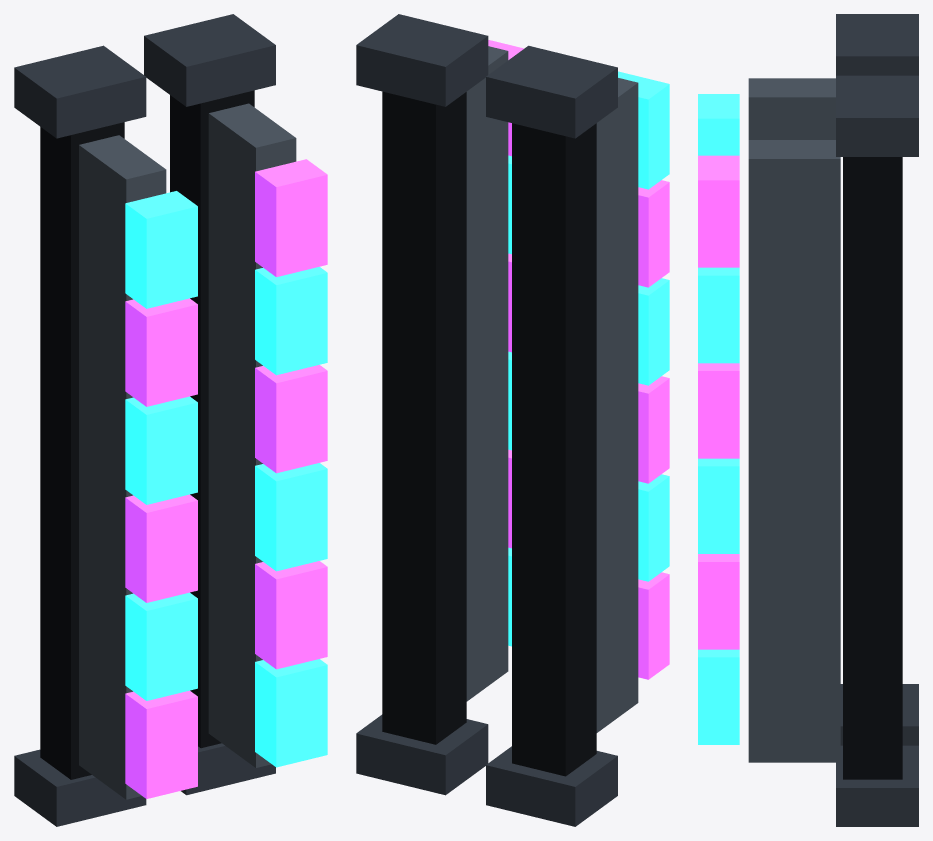
The model's file is pc-ram.glb.
3 renders of one model, left to right at view 1: azimuth 30°, elevation 25°; view 2: azimuth 150°, elevation 25°; view 3: azimuth 270°, elevation 25°, orthographic. The views are drawn at different scales.
Parts seen in each view (by area): view 1: ram (×20); view 2: ram (×14); view 3: ram (×14).
Boxes of the visible parts, bbox=[...] form: ram (×20): bbox=[14, 14, 327, 826]; ram (×14): bbox=[356, 14, 669, 826]; ram (×14): bbox=[698, 14, 918, 826].
Bounding box in the file's own units: 0.5733 × 1.82 × 0.5136.
